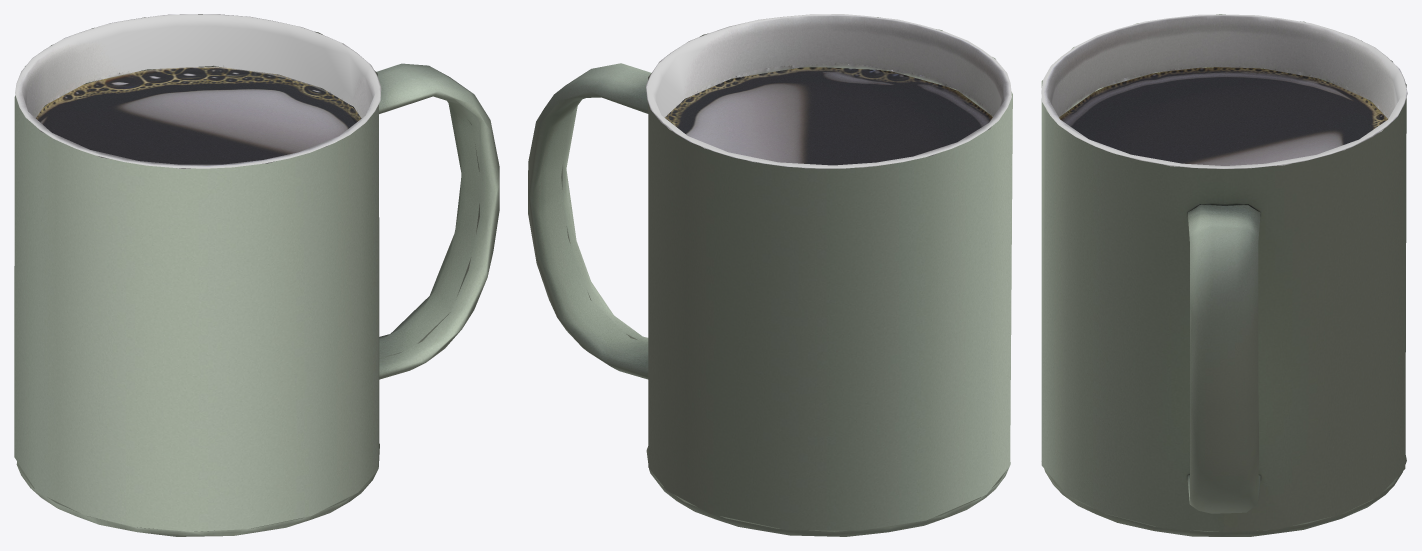
File: mid.glb
3 renders of one model, left to right at view 1: azimuth 30°, elevation 25°; view 2: azimuth 150°, elevation 25°; view 3: azimuth 270°, elevation 25°, orthographic.
Parts seen in each view (by area): view 1: coffee1; view 2: coffee1; view 3: coffee1.
Part boxes in pixels (bbox=[...]): coffee1: bbox=[14, 14, 499, 536]; coffee1: bbox=[528, 14, 1012, 536]; coffee1: bbox=[1041, 14, 1407, 536].
Size of the model in its own units: 1.7 by 1.35 by 1.2.
1 material, 1 textured.
